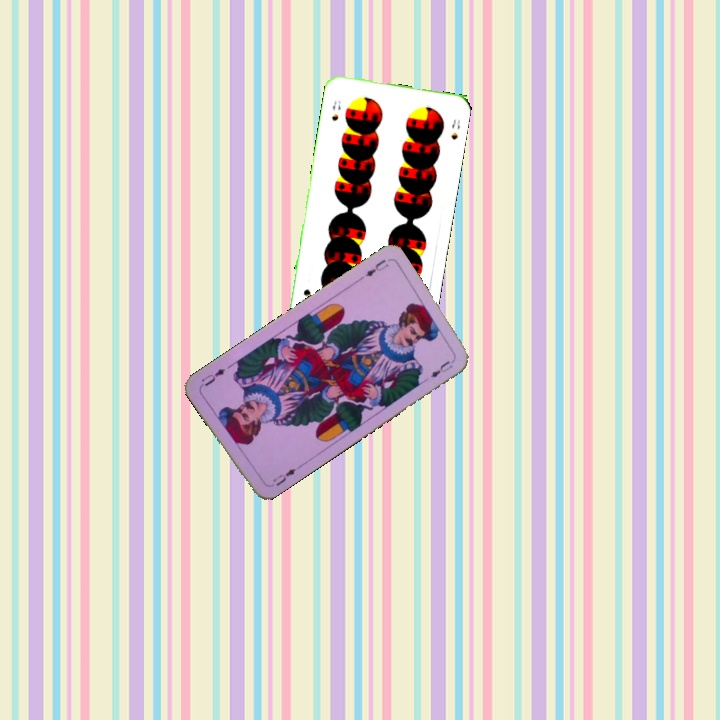EU: (264, 462, 301, 490), (361, 255, 391, 279)
S8: (328, 96, 343, 123)
